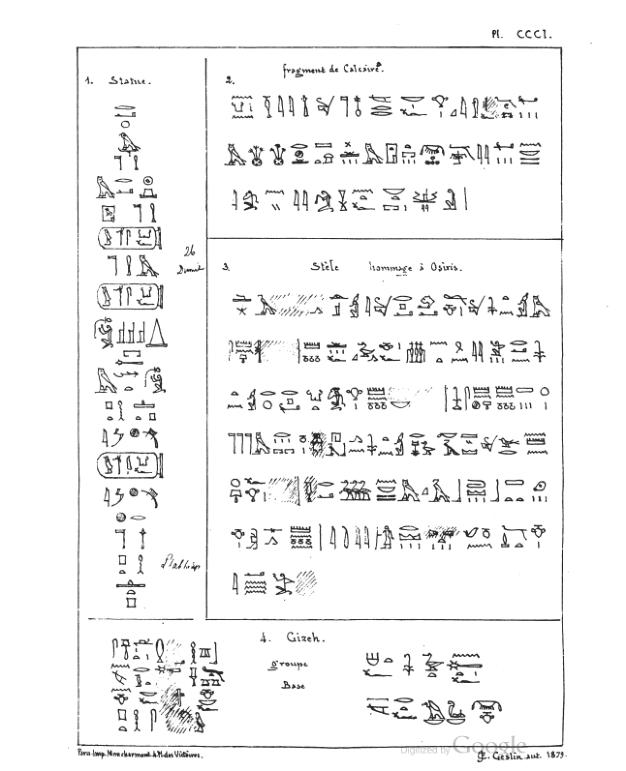circle: (93, 449, 169, 482), (93, 280, 169, 311), (97, 225, 164, 252)
